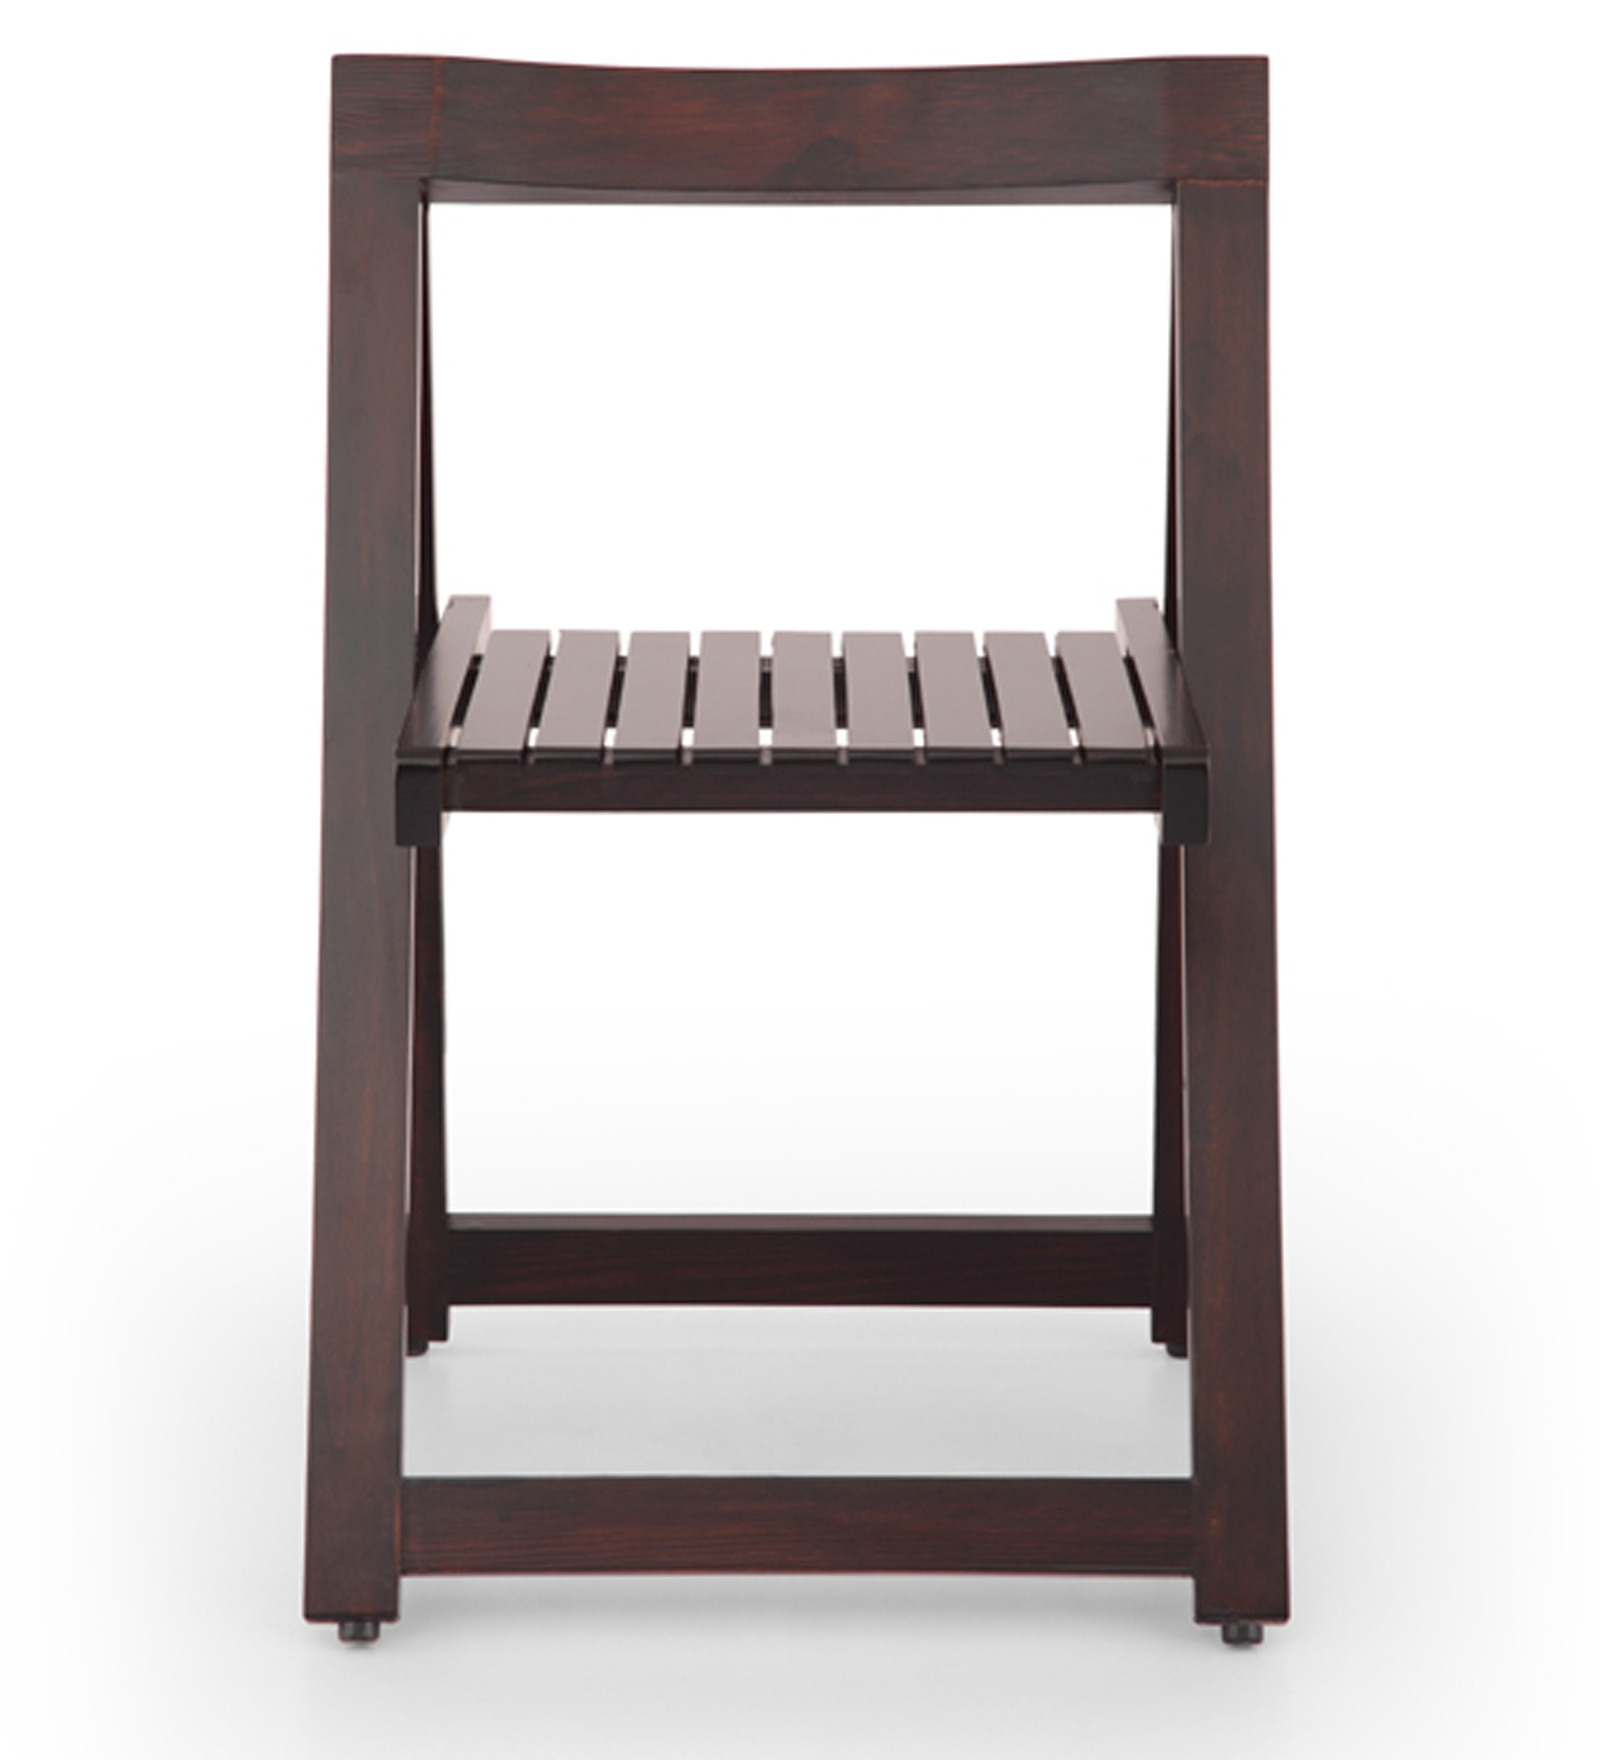Foldable Dining Chair in Ebony Finish by Ekbote Furniture: (285, 23, 1320, 1688)
